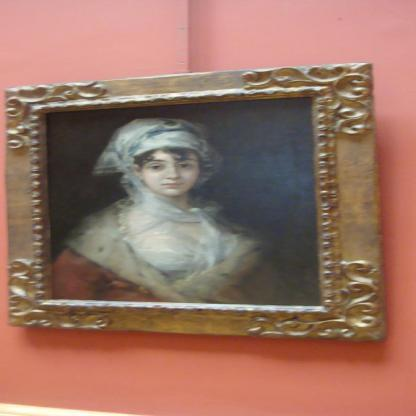Picture-frame: (1, 64, 390, 343)
